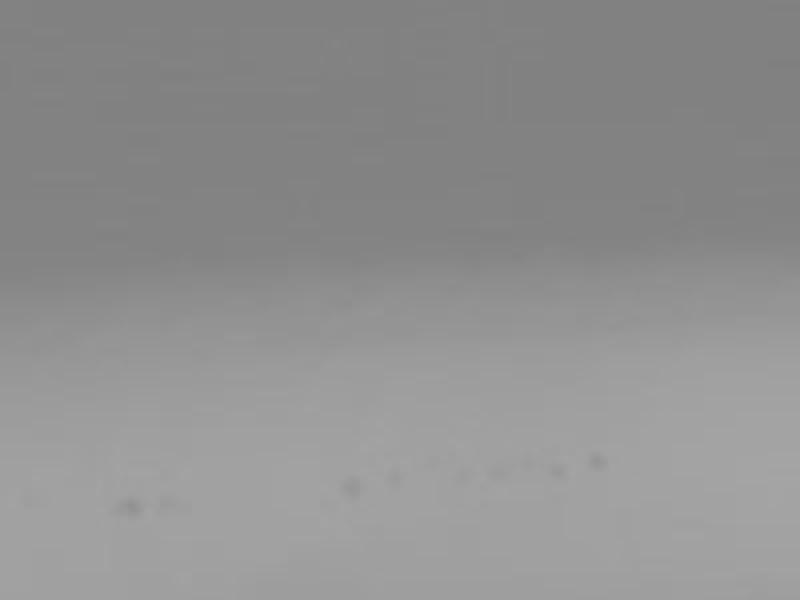defect: (478, 459, 505, 490), (586, 445, 613, 474), (156, 494, 195, 514), (334, 475, 360, 502), (385, 466, 408, 495), (115, 495, 142, 516), (549, 459, 572, 483), (447, 469, 472, 487)
